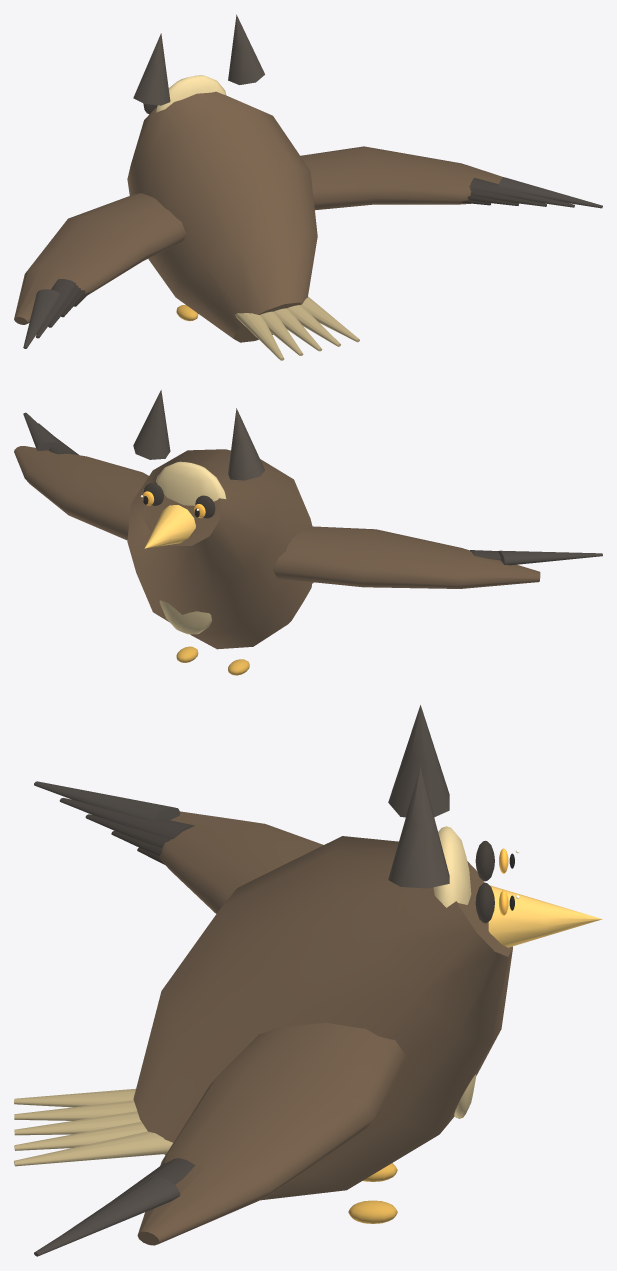
File: owl_hero.glb
The picture shows the model from 3 angles, top to bottom: view 1: azimuth 30°, elevation 25°; view 2: azimuth 150°, elevation 25°; view 3: azimuth 270°, elevation 25°; orthographic projection. The views are drawn at different scales.
Parts seen in each view (by area): view 1: OwlOrganicBody, Wing, Wing2, EarTuftDetail_L, EarTuftDetail_R, FacialDisc, PrimaryFeatherDetail_04, PrimaryFeatherDetail_042, TailFeatherDetail_-2, PrimaryFeatherDetail_032, TailFeatherDetail_2, TailFeatherDetail_1 (+3 smaller); view 2: OwlOrganicBody, Wing, Wing2, FacialDisc, EarTuftDetail_R, EarTuftDetail_L, HookedBeak, PrimaryFeatherDetail_04, ChestRuff, PrimaryFeatherDetail_042; view 3: OwlOrganicBody, Wing2, Wing, EarTuftDetail_R, HookedBeak, EarTuftDetail_L, PrimaryFeatherDetail_042, TailFeatherDetail_2, PrimaryFeatherDetail_04, FacialDisc, TailFeatherDetail_1, PrimaryFeatherDetail_03 (+6 smaller).
Boxes of the visible parts, box(x1,y1,x2,y2) form: OwlOrganicBody: box(127, 91, 317, 342); Wing: box(14, 193, 186, 324); Wing2: box(300, 146, 502, 210); EarTuftDetail_L: box(133, 33, 170, 105); EarTuftDetail_R: box(228, 14, 264, 84); FacialDisc: box(156, 75, 225, 112); PrimaryFeatherDetail_04: box(23, 289, 60, 348); PrimaryFeatherDetail_042: box(498, 177, 602, 208); TailFeatherDetail_-2: box(235, 313, 284, 360); PrimaryFeatherDetail_032: box(469, 178, 574, 207); TailFeatherDetail_2: box(300, 296, 359, 342); TailFeatherDetail_1: box(287, 305, 340, 346); OwlOrganicBody: box(127, 449, 312, 649); Wing: box(273, 526, 540, 588); Wing2: box(14, 446, 148, 540); FacialDisc: box(156, 461, 226, 505); EarTuftDetail_R: box(133, 390, 170, 459); EarTuftDetail_L: box(228, 408, 264, 480); HookedBeak: box(144, 505, 195, 548); PrimaryFeatherDetail_04: box(498, 550, 602, 565); ChestRuff: box(159, 600, 212, 634); PrimaryFeatherDetail_042: box(23, 412, 60, 450); OwlOrganicBody: box(133, 836, 512, 1200); Wing2: box(137, 1022, 405, 1245); Wing: box(159, 811, 323, 913); EarTuftDetail_R: box(388, 766, 449, 888); HookedBeak: box(488, 885, 602, 947); EarTuftDetail_L: box(388, 705, 449, 817); PrimaryFeatherDetail_042: box(34, 1176, 180, 1256); TailFeatherDetail_2: box(14, 1131, 172, 1166); PrimaryFeatherDetail_04: box(34, 781, 180, 821); FacialDisc: box(433, 826, 471, 907); TailFeatherDetail_1: box(14, 1121, 147, 1150); PrimaryFeatherDetail_03: box(59, 798, 194, 839).
Bounding box in the file's own units: 4.98 × 2.29 × 2.62.
